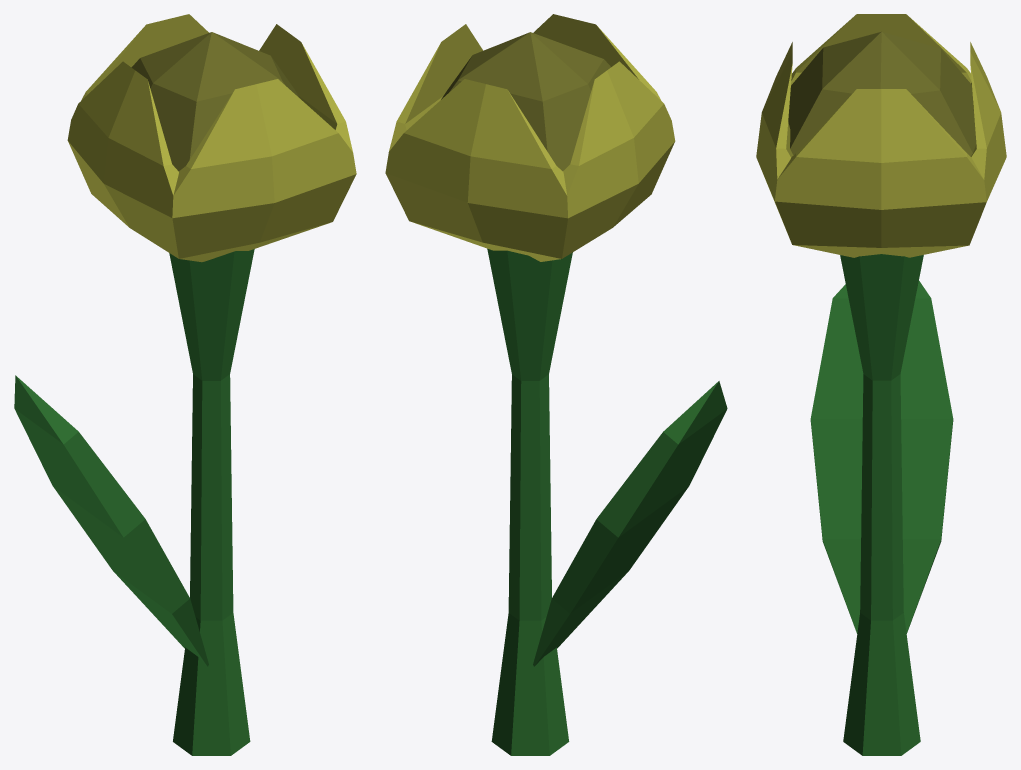
The model's file is Flower_3_Yellow.fbx.
3 renders of one model, left to right at view 1: azimuth 30°, elevation 25°; view 2: azimuth 150°, elevation 25°; view 3: azimuth 270°, elevation 25°, orthographic.
Parts seen in each view (by area): view 1: Flower_3_Yellow_Part_2, Flower_3_Yellow_Part_1, Flower_3_Yellow_Part_3; view 2: Flower_3_Yellow_Part_2, Flower_3_Yellow_Part_1, Flower_3_Yellow_Part_3; view 3: Flower_3_Yellow_Part_1, Flower_3_Yellow_Part_2, Flower_3_Yellow_Part_3.
Part boxes in pixels (left/top/right/bottom): Flower_3_Yellow_Part_2: left=67, top=14, right=356, bottom=262; Flower_3_Yellow_Part_1: left=14, top=249, right=254, bottom=755; Flower_3_Yellow_Part_3: left=131, top=32, right=299, bottom=171; Flower_3_Yellow_Part_2: left=385, top=14, right=675, bottom=261; Flower_3_Yellow_Part_1: left=487, top=248, right=727, bottom=755; Flower_3_Yellow_Part_3: left=441, top=32, right=610, bottom=171; Flower_3_Yellow_Part_1: left=810, top=254, right=953, bottom=755; Flower_3_Yellow_Part_2: left=756, top=14, right=1006, bottom=257; Flower_3_Yellow_Part_3: left=788, top=31, right=976, bottom=156.
Bounding box in the file's own units: 24.43 × 55 × 17.59.
